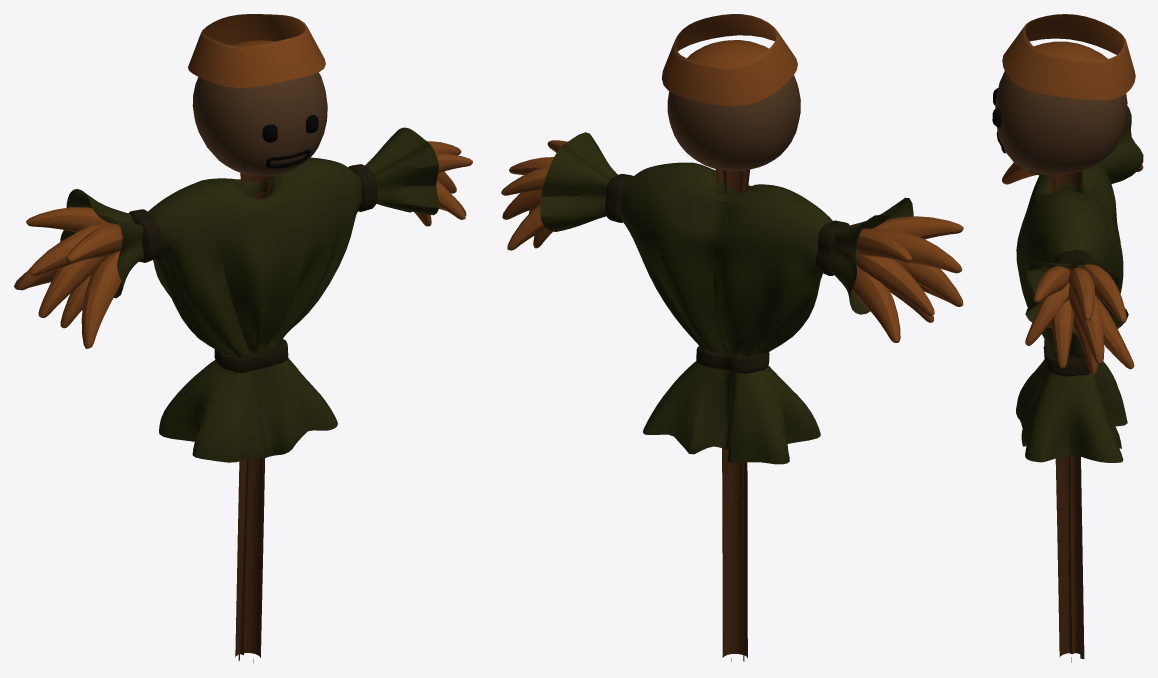
The model's file is hatless-scarecrow.glb.
3 views of the same model, side by side, from view 1: azimuth 30°, elevation 25°; view 2: azimuth 150°, elevation 25°; view 3: azimuth 270°, elevation 25° (orthographic).
Visible parts, largest first — view 1: scarecrow; view 2: scarecrow; view 3: scarecrow.
Boxes of the visible parts, x1,y1,x2,y2 form: scarecrow: [14, 14, 472, 662]; scarecrow: [501, 14, 963, 661]; scarecrow: [992, 14, 1143, 662].
Size of the model in its own units: 1.83 by 2.48 by 0.5375.
